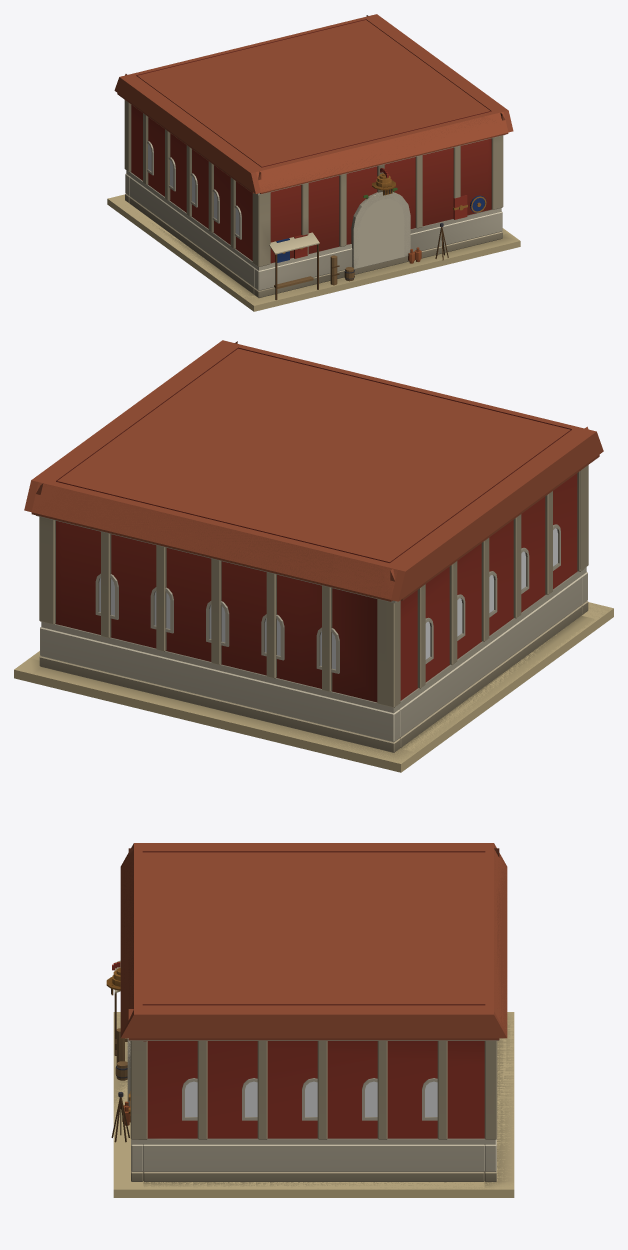
The model's file is GladiatorHelmetFloor.fbx.
3 renders of one model, top to bottom at view 1: azimuth 30°, elevation 25°; view 2: azimuth 150°, elevation 25°; view 3: azimuth 270°, elevation 25°, orthographic. The views are drawn at different scales.
Visible parts, largest first — view 1: LU_S_All, LU_F_Rings, LU_F_Smooth, LU_F_Quiet, LU_F_Props, LU_F_Glass; view 2: LU_S_All, LU_F_Rings, LU_F_Smooth, LU_F_Quiet, LU_F_Glass; view 3: LU_S_All, LU_F_Rings, LU_F_Smooth, LU_F_Quiet, LU_F_Glass.
Part boxes in pixels (x1,y1,x2,y2): LU_S_All: (107, 14, 520, 311); LU_F_Rings: (119, 15, 508, 297); LU_F_Smooth: (117, 93, 508, 299); LU_F_Quiet: (150, 222, 519, 305); LU_F_Props: (270, 173, 421, 270); LU_F_Glass: (148, 144, 239, 235); LU_S_All: (14, 340, 613, 772); LU_F_Rings: (31, 341, 598, 752); LU_F_Smooth: (31, 455, 599, 752); LU_F_Quiet: (14, 602, 613, 763); LU_F_Glass: (99, 528, 557, 669); LU_S_All: (113, 843, 514, 1197); LU_F_Rings: (120, 847, 507, 1181); LU_F_Smooth: (106, 962, 499, 1181); LU_F_Quiet: (114, 1012, 513, 1189); LU_F_Glass: (185, 1081, 437, 1116).
Size of the model in its own units: 60 by 20 by 60.
